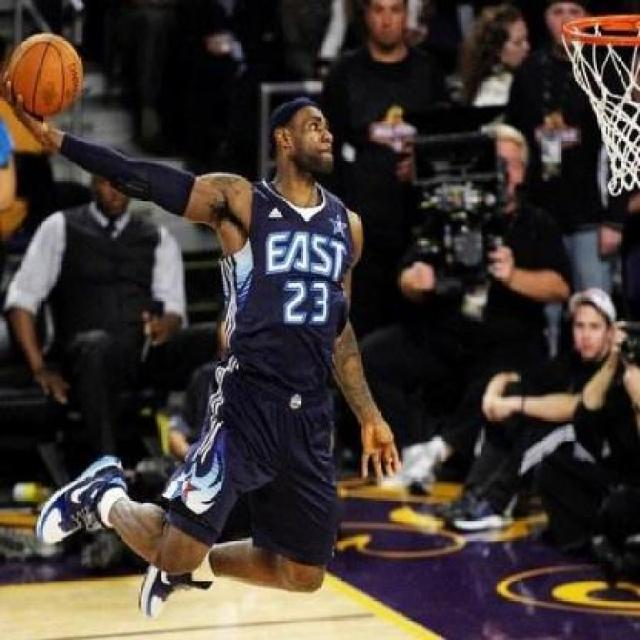basketball: (8, 33, 84, 115)
rim: (560, 16, 640, 196)
